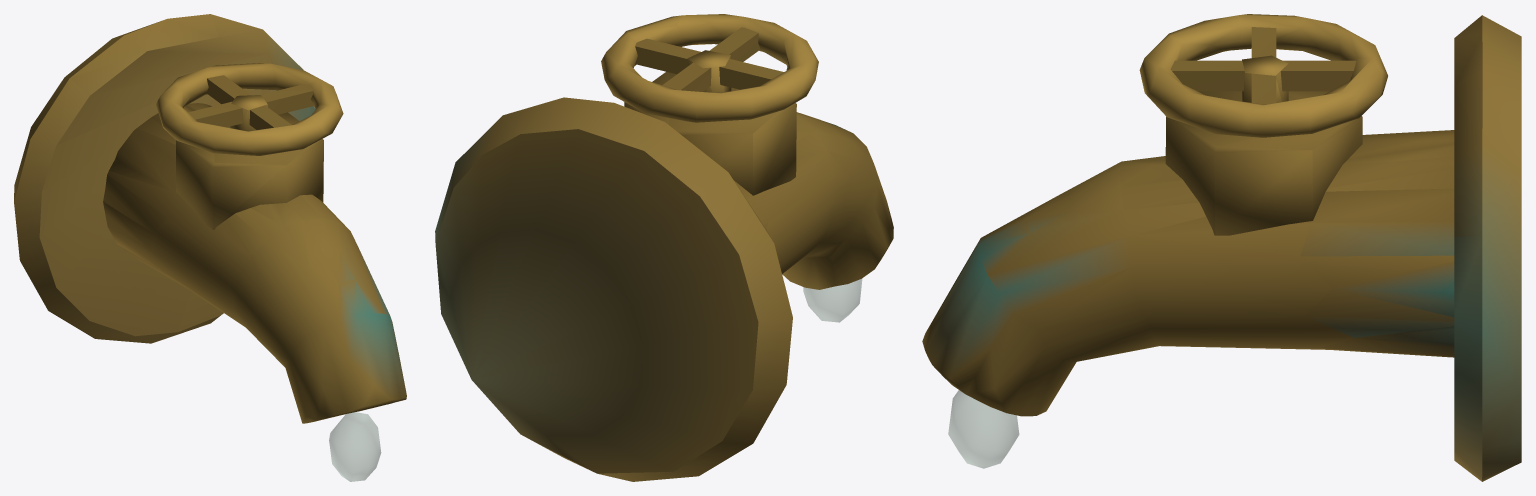
File: mire_spigot_lod2.glb
3 views of the same model, side by side, from view 1: azimuth 30°, elevation 25°; view 2: azimuth 150°, elevation 25°; view 3: azimuth 270°, elevation 25° (orthographic). The views are drawn at different scales.
Parts seen in each view (by area): view 1: mire_spigot.001; view 2: mire_spigot.001; view 3: mire_spigot.001.
Part boxes in pixels (x1=…): mire_spigot.001: x1=14, y1=14, x2=406, y2=481; mire_spigot.001: x1=435, y1=14, x2=893, y2=481; mire_spigot.001: x1=922, y1=14, x2=1521, y2=481.
Bounding box in the file's own units: 4.2 × 4.25 × 5.35.
